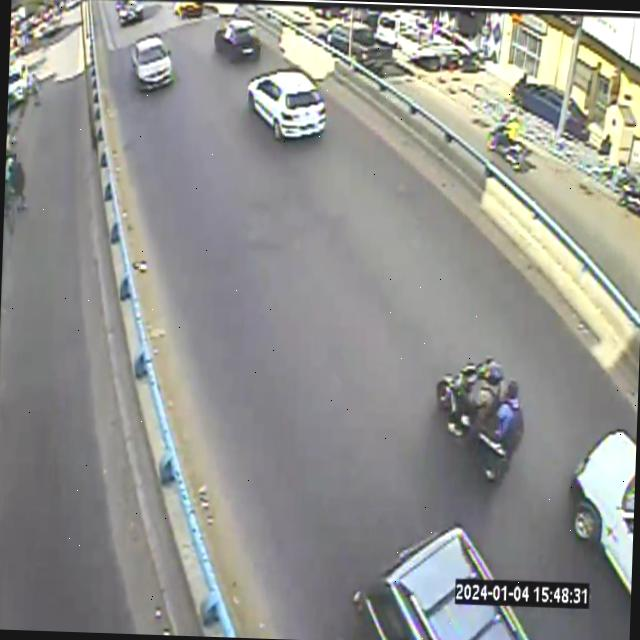car: (353, 525, 528, 640), (570, 430, 635, 593), (247, 68, 325, 137), (131, 34, 173, 89), (215, 17, 260, 60), (119, 0, 142, 25)
